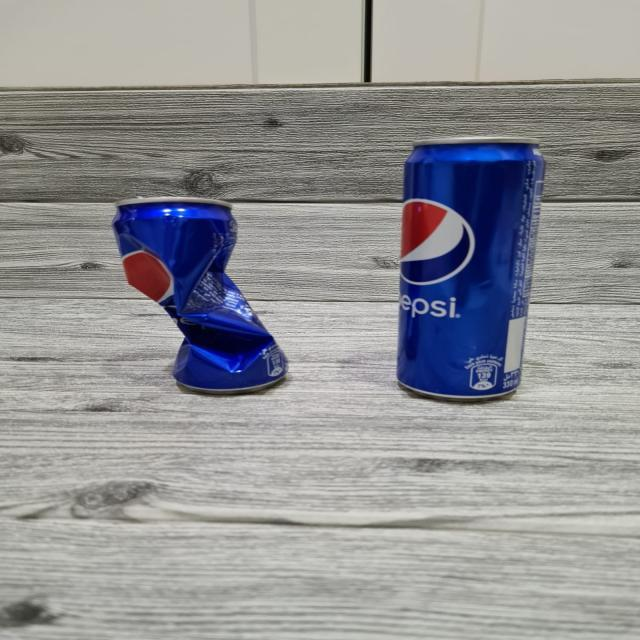can: (382, 130, 558, 410), (113, 195, 294, 398)
